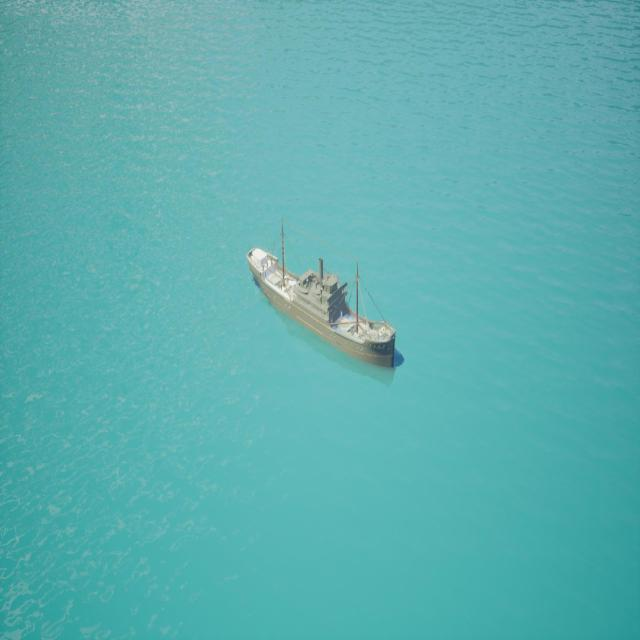fishing ship: (248, 249, 398, 372)
